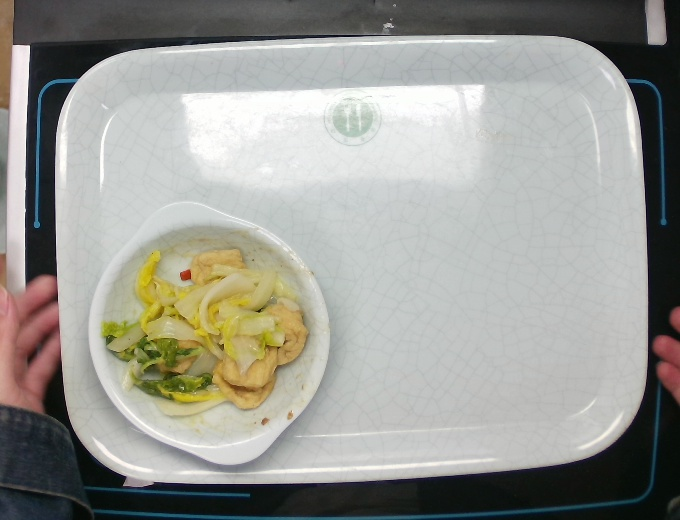JYsf-Shuang_Er_Wan: (84, 197, 332, 468)
